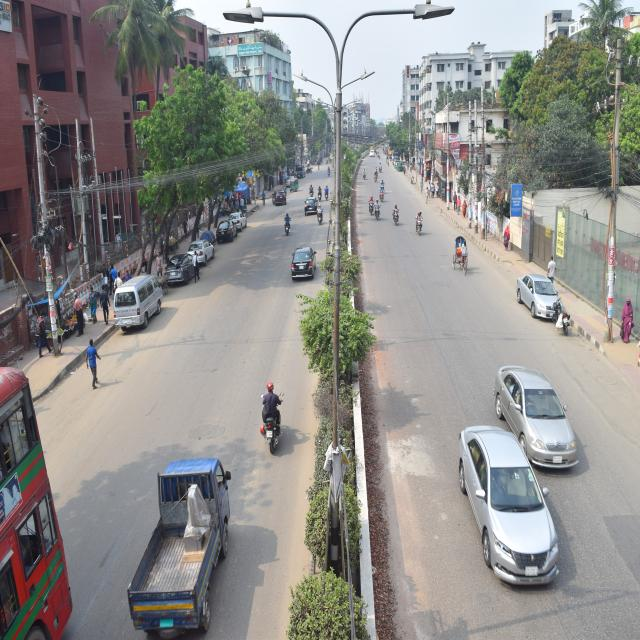car: (446, 423, 576, 620), (494, 370, 586, 498), (516, 269, 556, 326), (164, 242, 199, 290), (172, 234, 214, 273), (292, 243, 319, 289), (213, 216, 233, 244), (226, 200, 242, 234), (268, 184, 284, 198), (39, 198, 41, 208)
microbus: (117, 261, 162, 337)
motorbike: (259, 392, 282, 442), (553, 297, 571, 340), (282, 210, 298, 251), (410, 213, 428, 244), (391, 200, 402, 230), (379, 179, 389, 205), (313, 208, 323, 227), (318, 189, 330, 200), (375, 209, 382, 226), (369, 198, 374, 212), (310, 182, 313, 200)
pickup-van: (130, 449, 227, 624)
